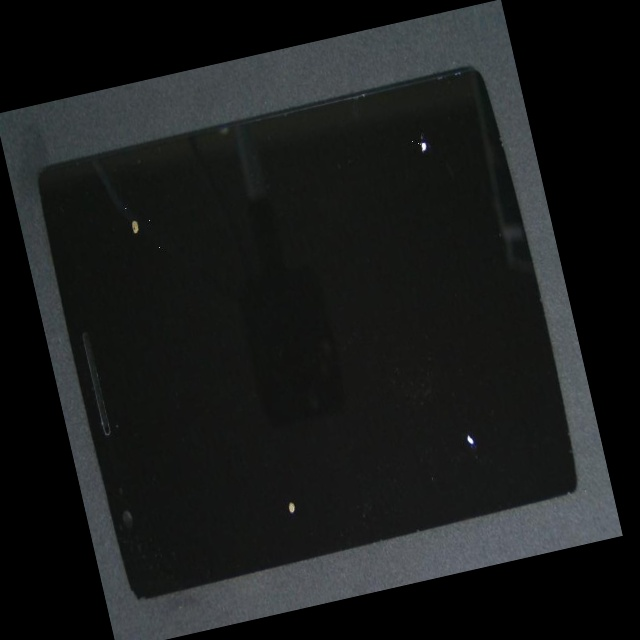stain: (220, 197, 623, 610), (150, 238, 412, 625), (215, 31, 537, 226), (51, 136, 199, 333)
